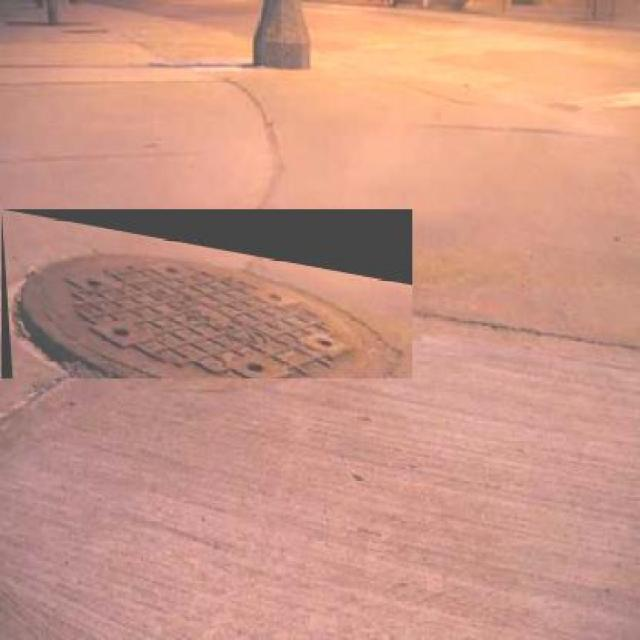Manhole: (1, 210, 412, 378)
